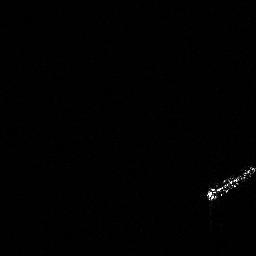ship: (205, 164, 256, 202)
